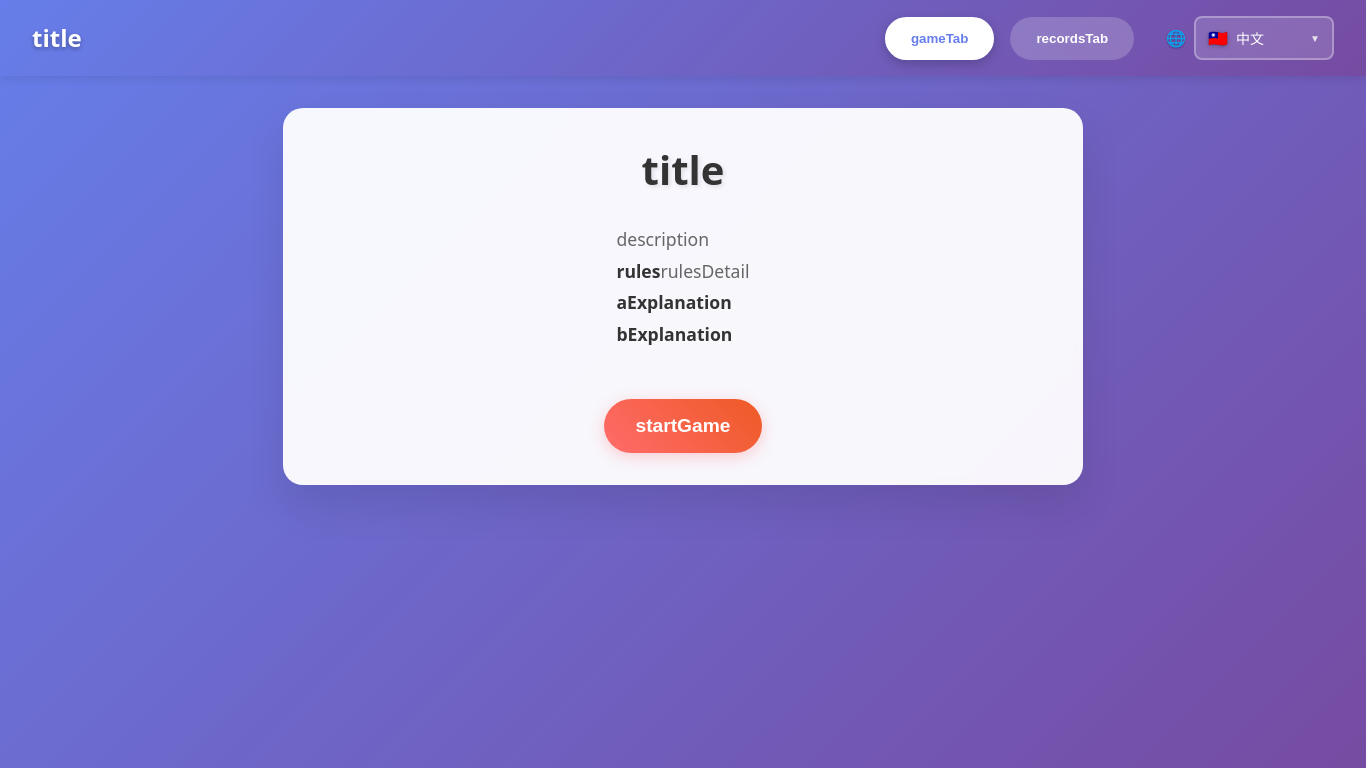
Test: complete game flow tests › game interface › should display basic game interface elements
The image size is (1366, 768).
// Start game
Click the button "startGame" at point(683, 426), box [604,399,762,453]
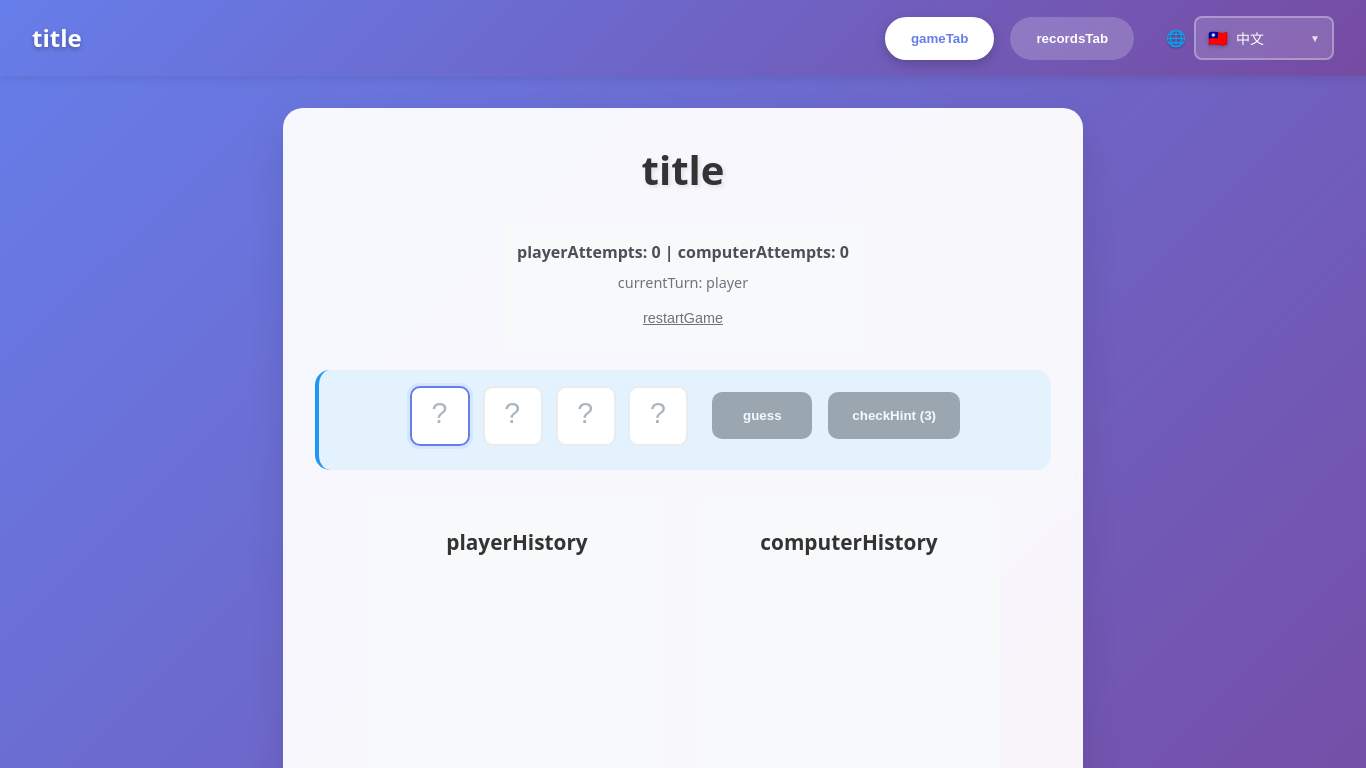
Now the text "playerAttempts: 0 | computerAttempts: 0" is shown, box [517,240,849,264]
Now the text "currentTurn: player" is shown, box [618,272,748,294]
Now the field with id "digit-0" is shown, box [410,386,470,446]
